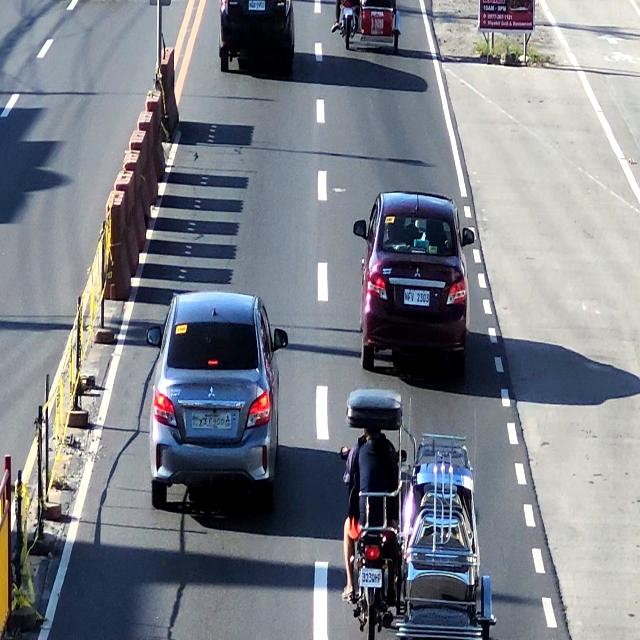Car: (144, 292, 288, 514), (354, 186, 474, 376), (213, 0, 297, 73)
License-Plate: (186, 403, 234, 433), (356, 565, 384, 591), (401, 285, 430, 308), (246, 0, 266, 12), (342, 7, 355, 21)
Tricycle: (342, 396, 492, 640), (328, 0, 404, 54)
